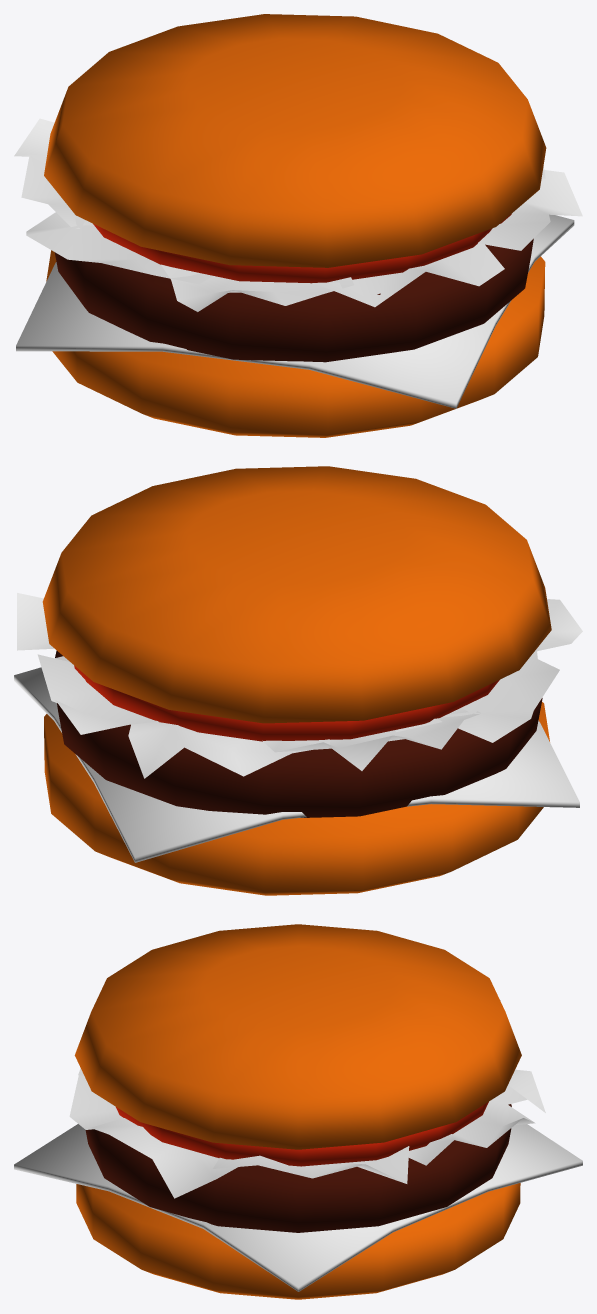
File: FBX ComicCon Burger.fbx
3 views of the same model, one above another, from view 1: azimuth 30°, elevation 25°; view 2: azimuth 150°, elevation 25°; view 3: azimuth 270°, elevation 25° (orthographic). The views are drawn at different scales.
Visible parts, largest first — view 1: X-Salada; view 2: X-Salada; view 3: X-Salada.
Part boxes in pixels (x1,y1,x2,y2): X-Salada: [14, 14, 582, 437]; X-Salada: [14, 466, 582, 895]; X-Salada: [14, 924, 582, 1299].
Size of the model in its own units: 329 by 147 by 329.
